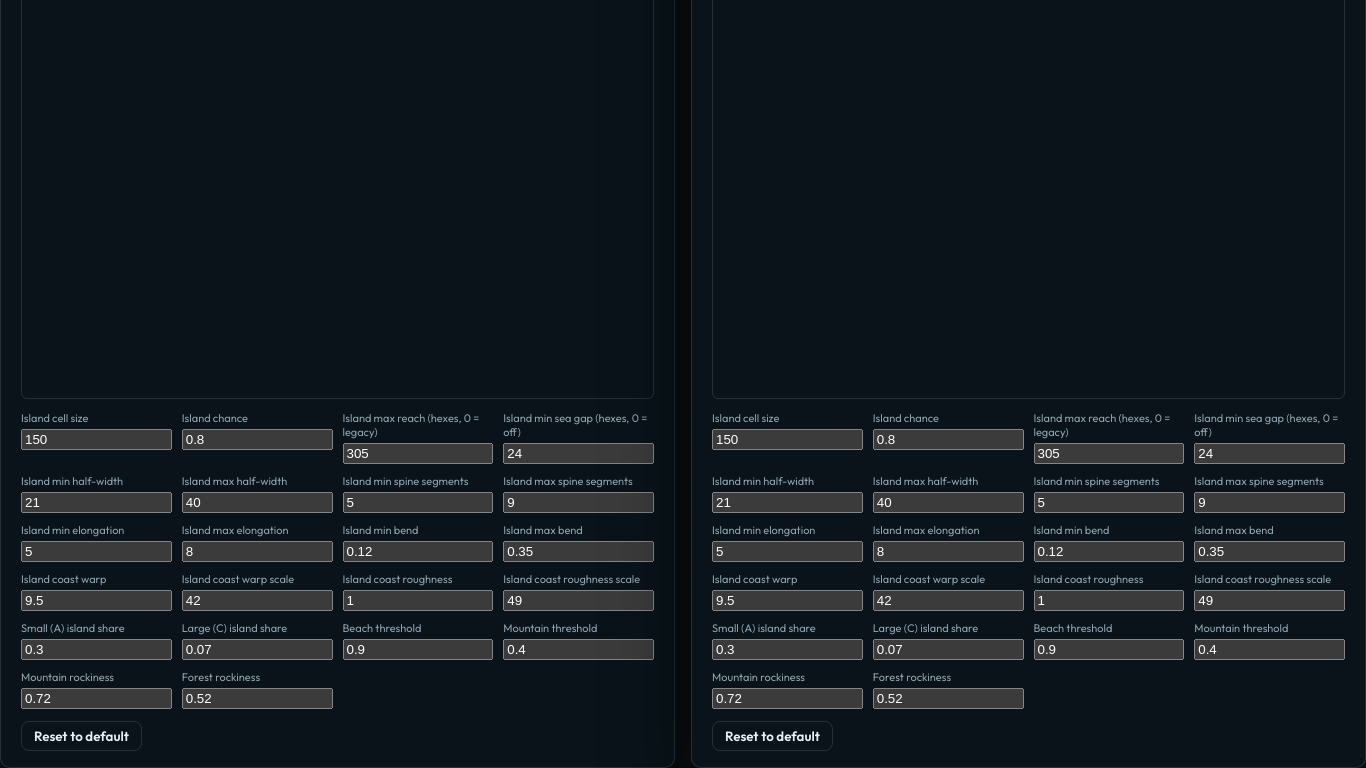
Test: AdminIslandLabView › resetting to default restores the shipped generation values
The width and height of the screenshot is (1366, 768).
(page scrolled)
Replace the text in the number field with test id "lab-gen-" with "99": point(96, 440) left=21, top=429, right=172, bottom=450
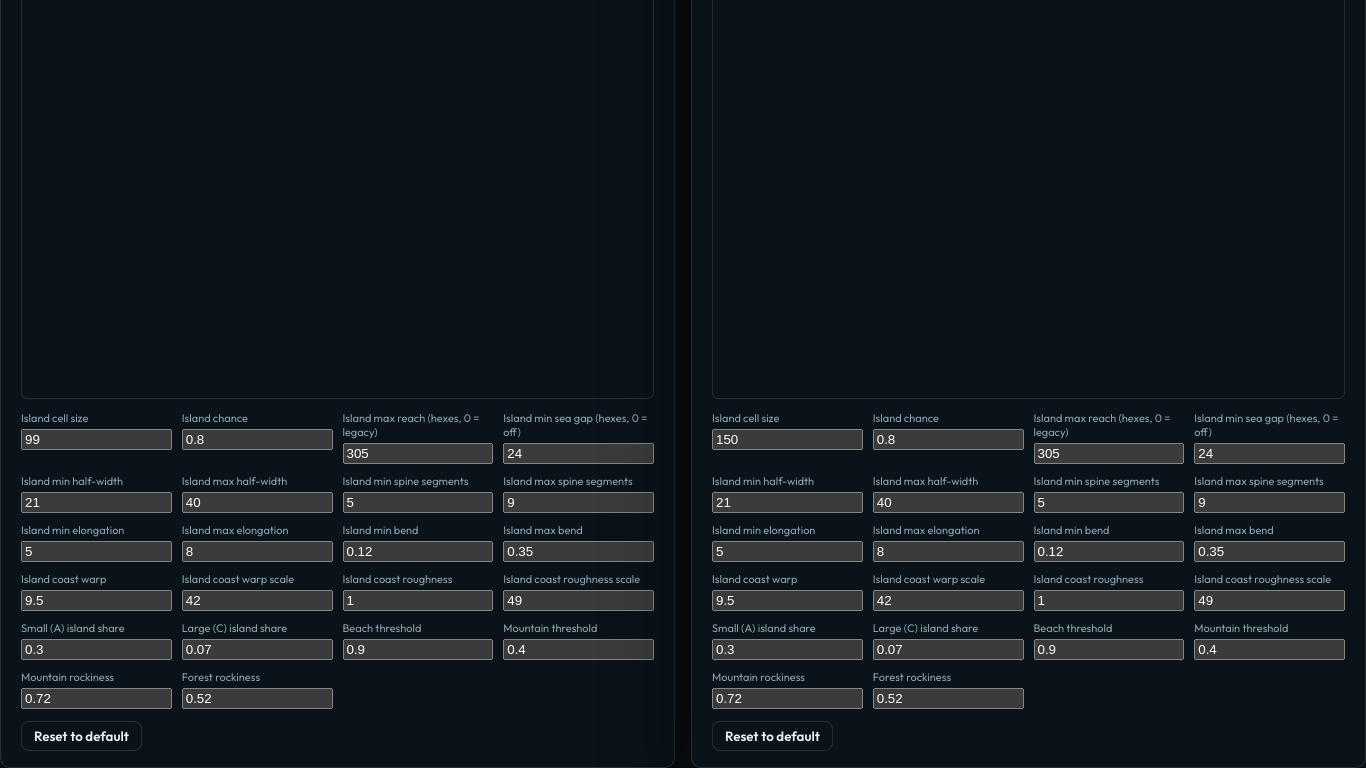
Click the 1st button with test id "reset-generation": point(81, 736) left=21, top=721, right=142, bottom=751
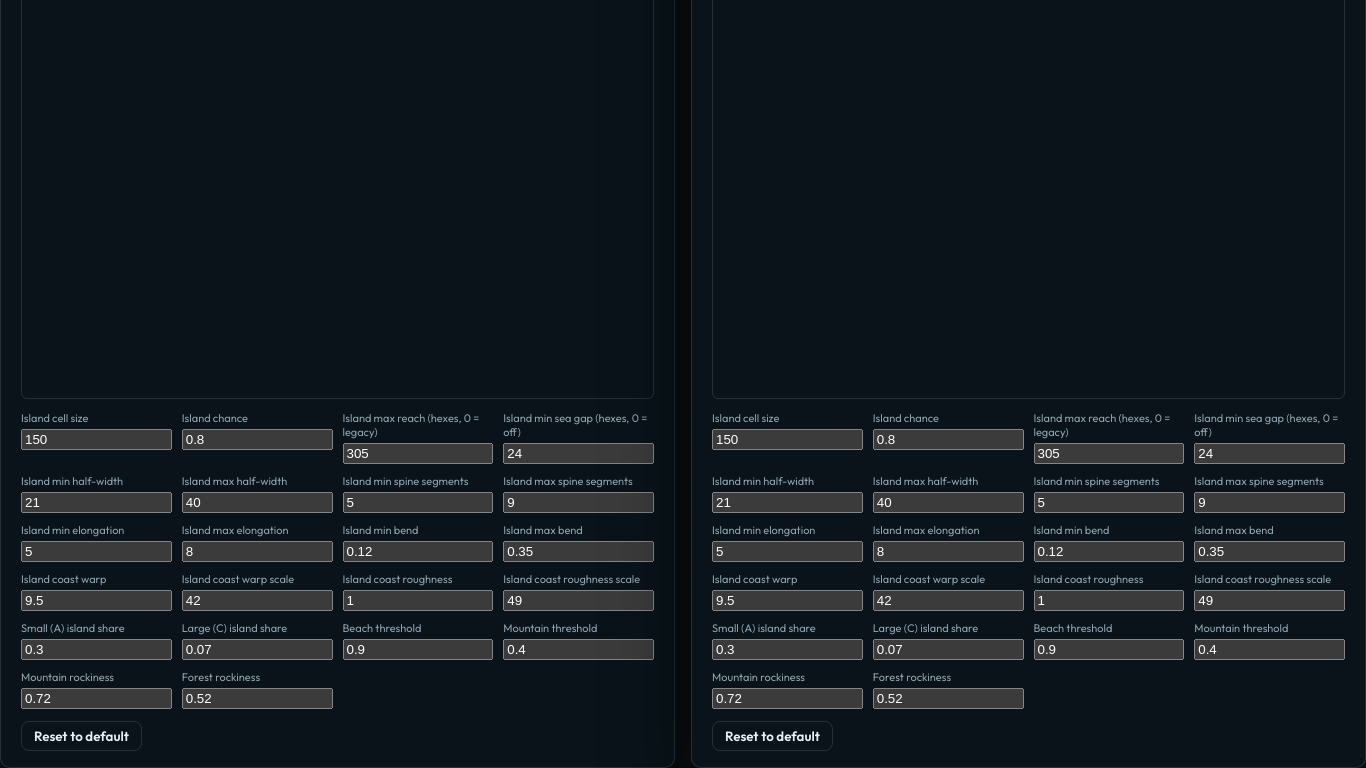
Expected: the number field with test id "lab-gen-" holds "150", left=21, top=429, right=172, bottom=450
